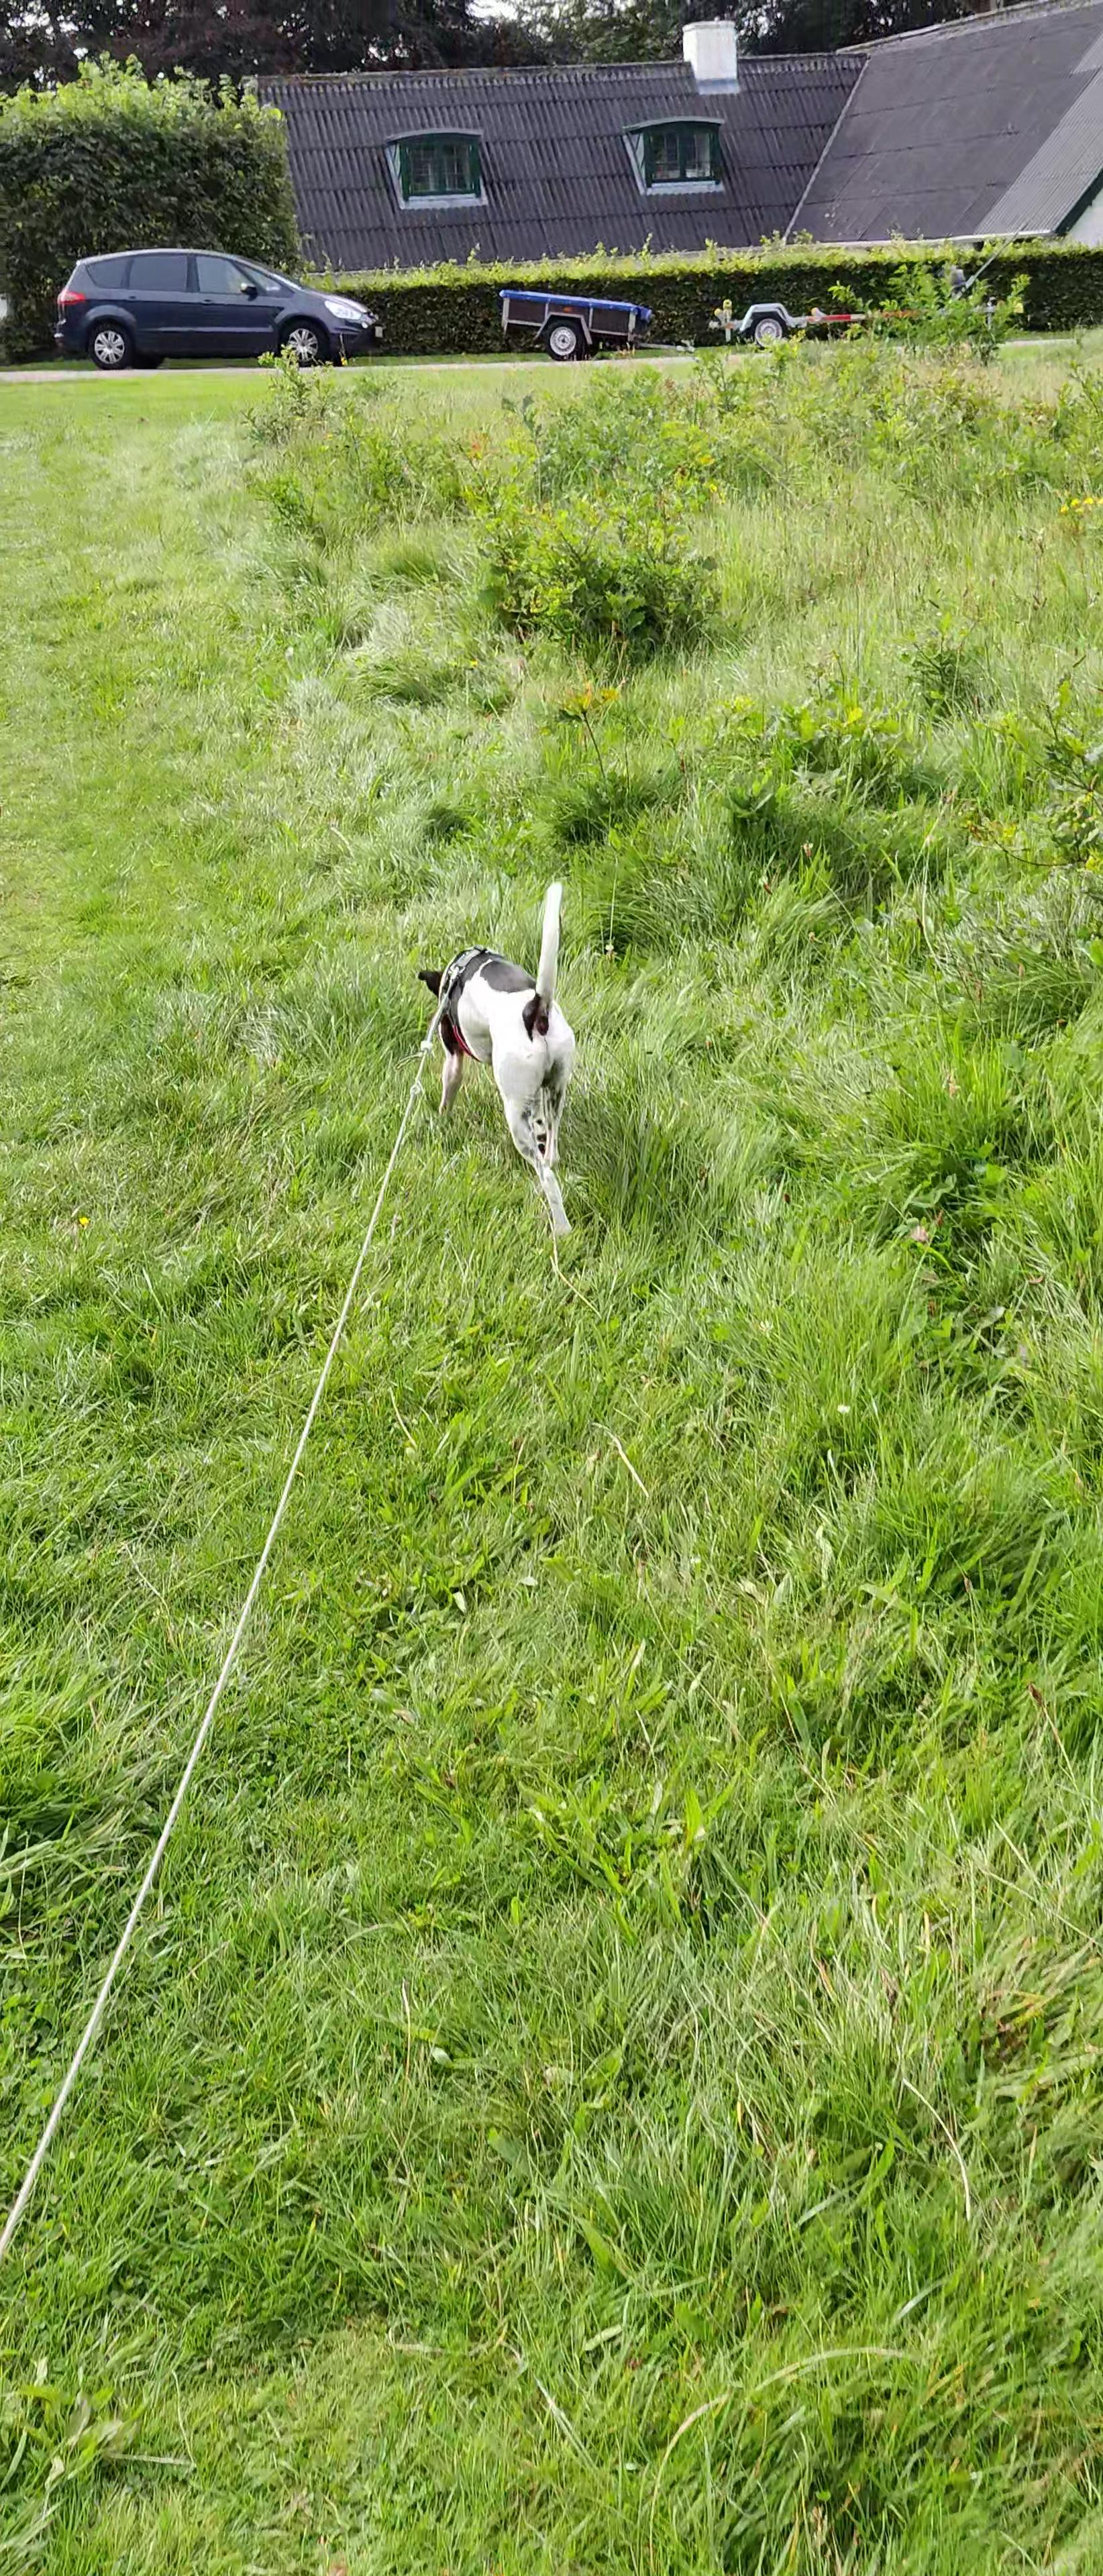Dog: (406, 872, 590, 1240)
